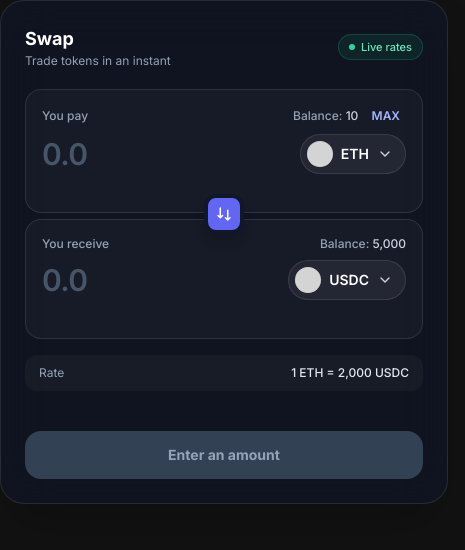
Test: SwapForm › shows a loading state then reports success (with adjusted balances) on submit
The image size is (465, 550).
In the field named "You pay amount": (165, 154) [42,136,288,172], type "2"
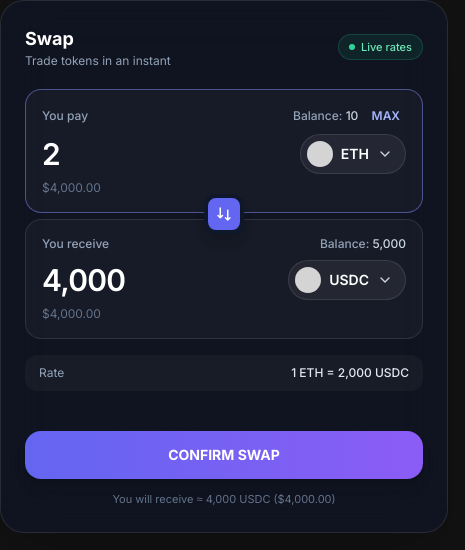
Click the button "CONFIRM SWAP": (224, 455) [25,431,423,479]
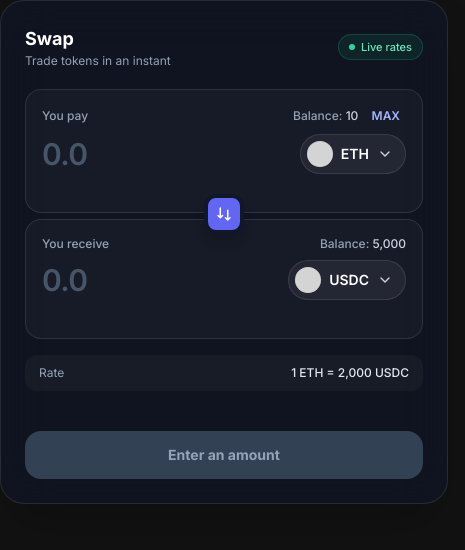
Result: the button named "confirming swap" is disabled at [25,431,423,479]
Result: the field named "You pay amount" is empty at [42,136,288,172]
